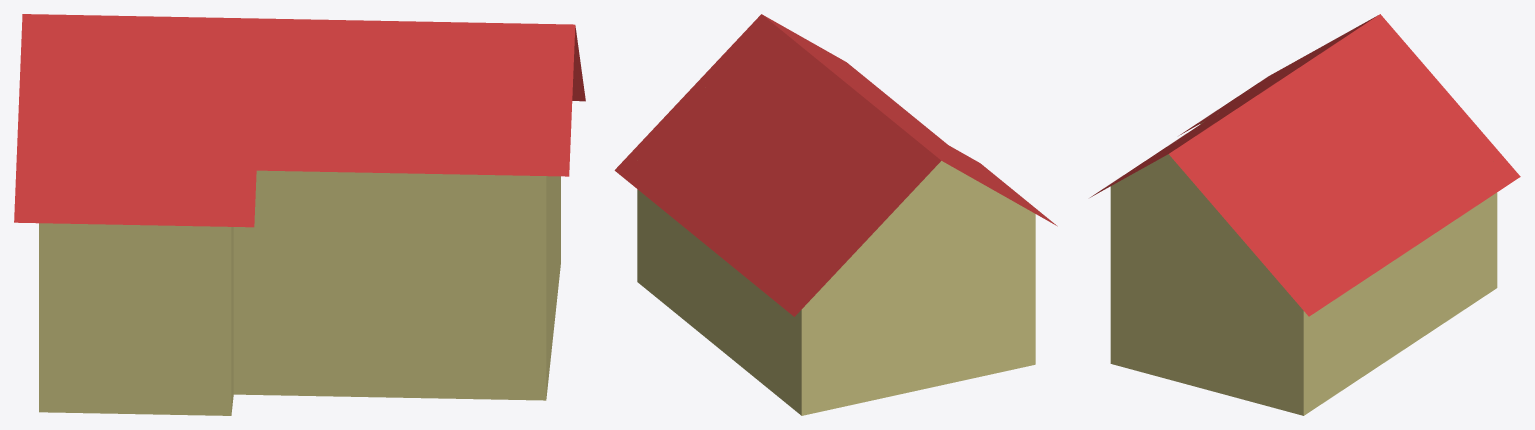
3 views of the same model, side by side, from view 1: azimuth 30°, elevation 25°; view 2: azimuth 150°, elevation 25°; view 3: azimuth 270°, elevation 25° (orthographic). The views are drawn at different scales.
Size of the model in its own units: 28.86 by 25.41 by 15.13.
